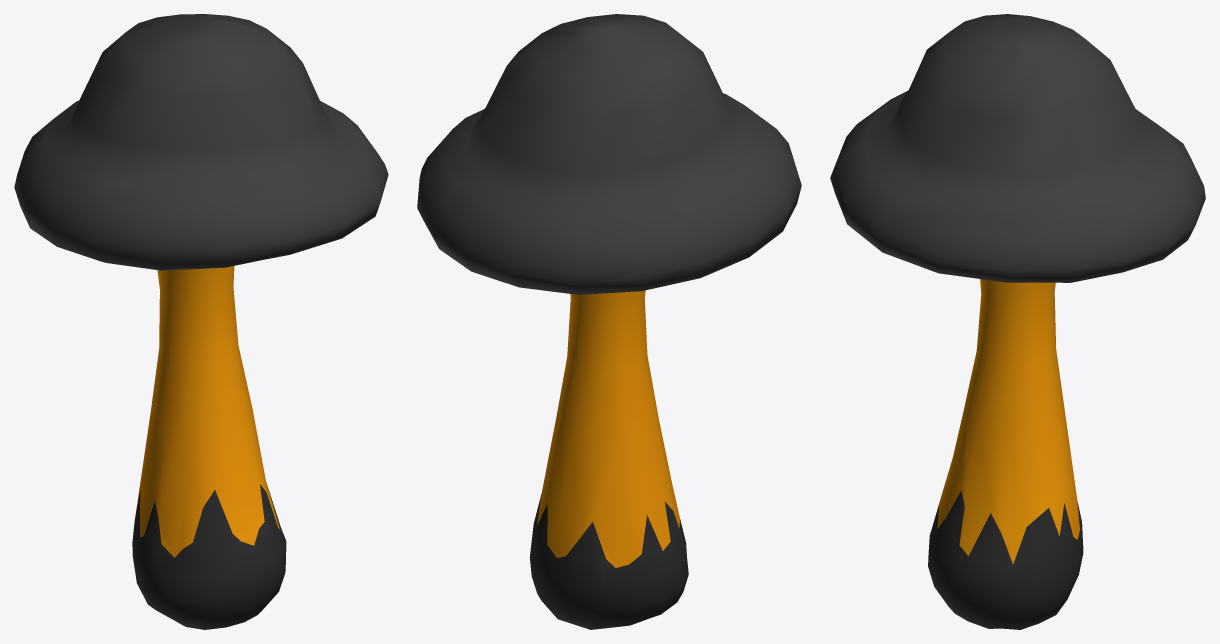
The model's file is mushroom 11.fbx.
3 views of the same model, side by side, from view 1: azimuth 30°, elevation 25°; view 2: azimuth 150°, elevation 25°; view 3: azimuth 270°, elevation 25° (orthographic). The views are drawn at different scales.
Parts seen in each view (by area): view 1: Mushroom_0001_0011; view 2: Mushroom_0001_0011; view 3: Mushroom_0001_0011.
Part boxes in pixels (x1,y1,x2,y2): Mushroom_0001_0011: [14, 14, 388, 629]; Mushroom_0001_0011: [417, 14, 801, 629]; Mushroom_0001_0011: [830, 14, 1205, 629].
Size of the model in its own units: 14.56 by 25.15 by 14.67.
1 material, 1 textured.
